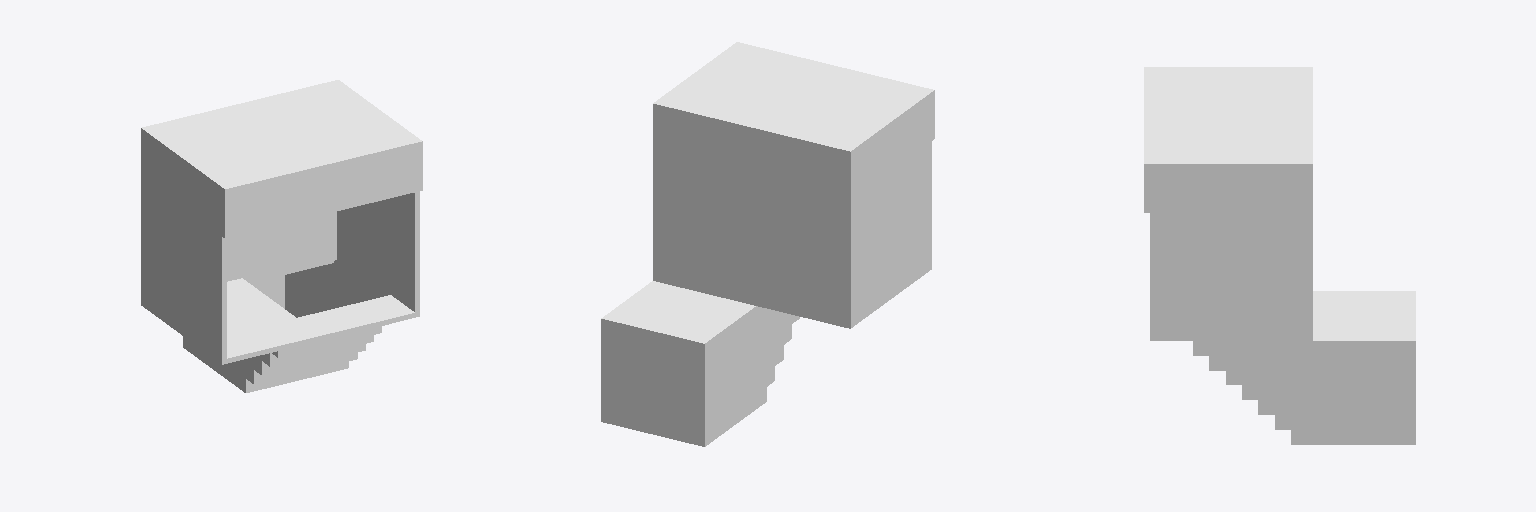
File: store_2.obj
The picture shows the model from 3 angles: view 1: azimuth 30°, elevation 25°; view 2: azimuth 150°, elevation 25°; view 3: azimuth 270°, elevation 25°; orthographic projection.
Visible parts, largest first — view 1: store_2; view 2: store_2; view 3: store_2.
Boxes of the visible parts, <box> form: store_2: <box>141,80,422,392</box>; store_2: <box>601,42,934,446</box>; store_2: <box>1144,67,1415,444</box>.
Bounding box in the file's own units: 42 × 57 × 50.